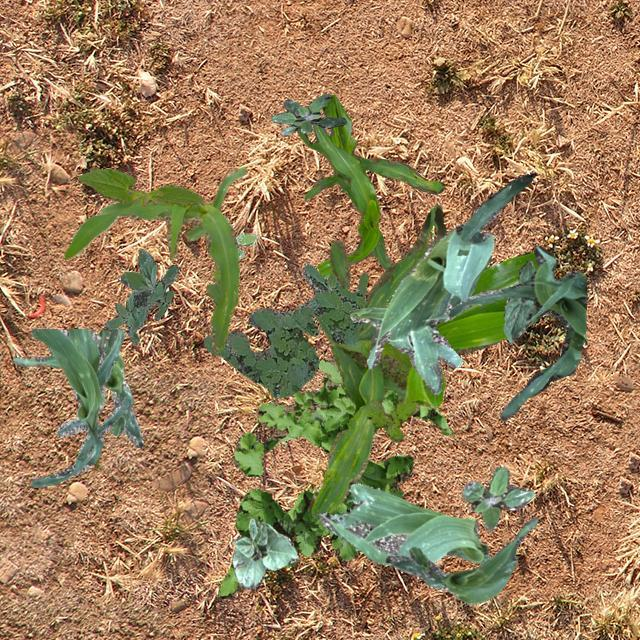crop: (308, 205, 538, 518), (348, 172, 534, 394), (64, 166, 245, 354), (296, 94, 444, 276), (448, 246, 586, 420), (30, 328, 130, 487), (318, 482, 488, 564), (384, 516, 536, 602), (11, 352, 142, 446), (78, 166, 204, 206), (230, 518, 298, 588), (502, 258, 534, 342)
weed: (216, 356, 449, 598), (202, 263, 368, 397), (104, 248, 178, 344), (461, 466, 534, 530), (270, 92, 346, 134), (366, 398, 418, 441), (234, 232, 256, 256)
